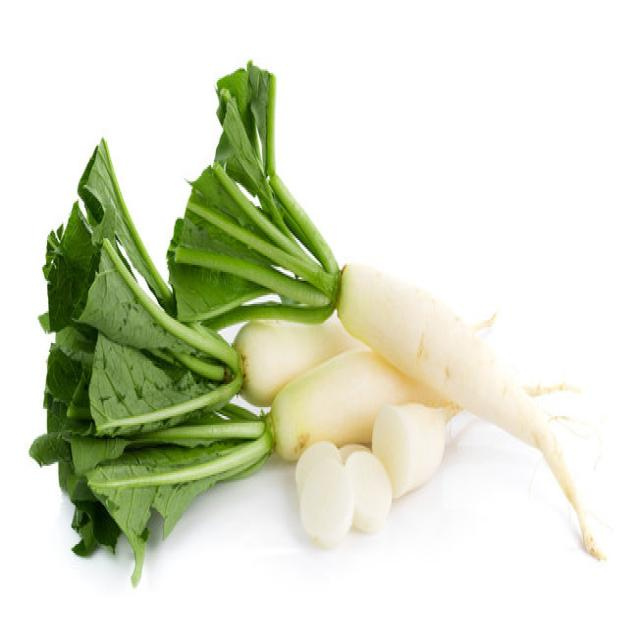Bottle Gourd: (84, 345, 454, 492)
Fenugreek: (29, 59, 608, 585)
Garlic: (298, 457, 354, 546), (344, 448, 392, 532), (294, 439, 342, 493)
Radish: (334, 259, 608, 562), (268, 346, 456, 461), (100, 236, 241, 384), (76, 135, 176, 317), (232, 317, 363, 407)
